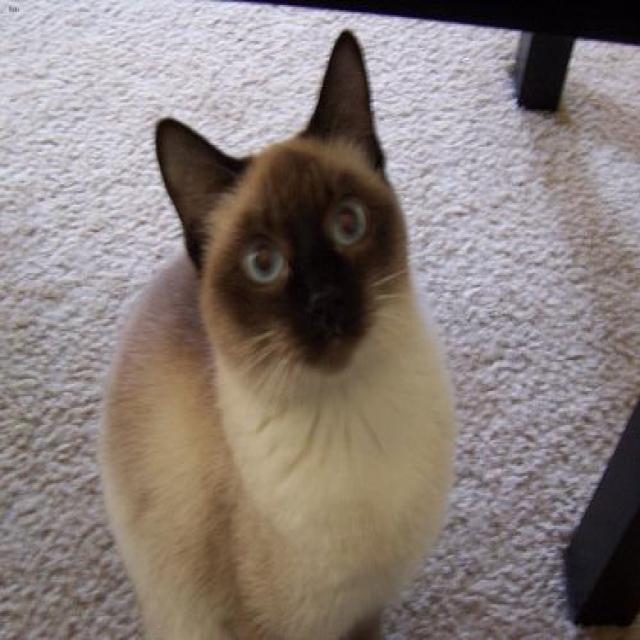cat: (96, 27, 457, 640)
